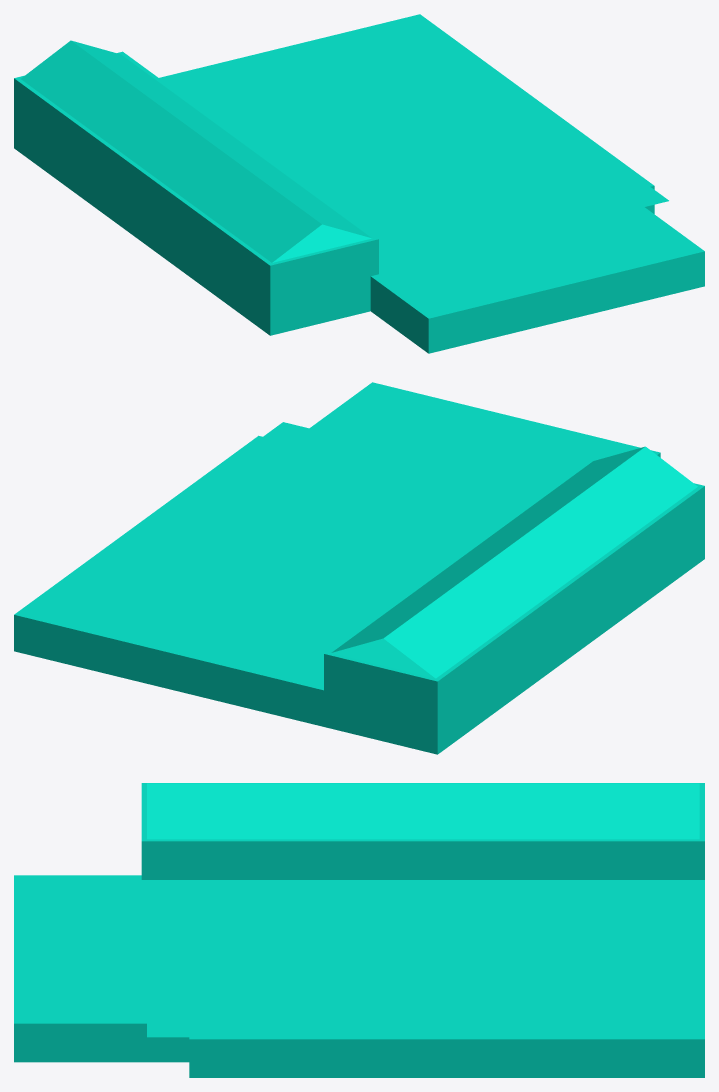
File: level01_draft.FBX
3 views of the same model, one above another, from view 1: azimuth 30°, elevation 25°; view 2: azimuth 150°, elevation 25°; view 3: azimuth 270°, elevation 25° (orthographic). The views are drawn at different scales.
Visible parts, largest first — view 1: Brush001; view 2: Brush001; view 3: Brush001.
Part boxes in pixels (x1=…): Brush001: x1=14, y1=14, x2=704, y2=353; Brush001: x1=14, y1=382, x2=704, y2=754; Brush001: x1=14, y1=783, x2=704, y2=1077.
Bounding box in the file's own units: 1552 × 352 × 2080.
